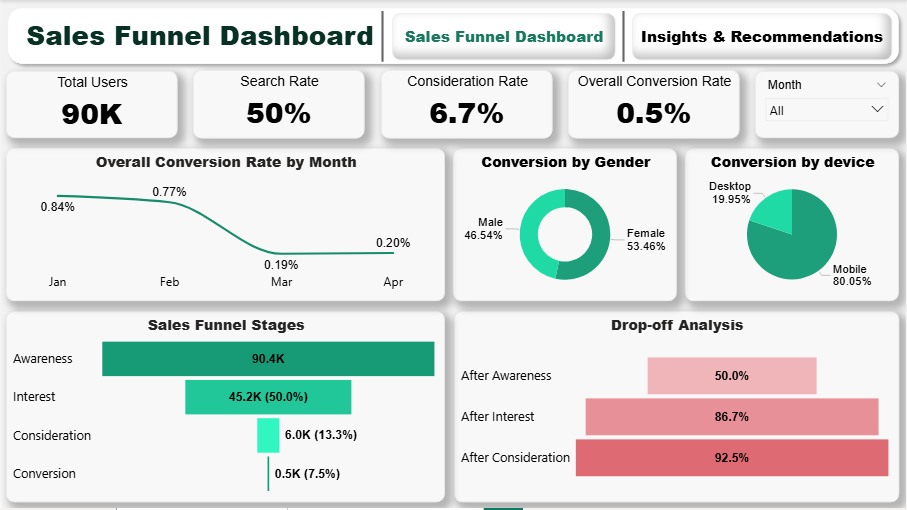

This screenshot's page, from the dashboard's own definition file:
{"tool":"powerbi","page":{"name":"Sales Funnel Dashboard","canvas":[1280,720],"ordinal":0},"visuals":[{"type":"card","title":"Total Users","fields":{"Values":["All Measures.Home Page Users"]},"box":[5.7,101.1,243.5,95.4],"z":0},{"type":"shape","box":[0,2.8,1279.8,96.4],"z":1000},{"type":"textbox","box":[11.3,18.4,538.6,66.6],"z":2000},{"type":"shape","box":[528.7,15.6,21.3,72.3],"z":3000},{"type":"shape","box":[873.1,15.6,15.6,72.3],"z":4000},{"type":"actionButton","box":[552.8,18.4,317.5,66.6],"z":5000},{"type":"actionButton","box":[892.9,18.4,368.5,66.6],"z":6000},{"type":"funnel","title":"Drop-off Analysis","fields":{"Y":["All Measures.Drop-Off After Home Page","All Measures.Drop-off after Search page","All Measures.Drop-off after payment confirmation"]},"box":[640.6,440.8,630.7,270.7],"z":7000},{"type":"funnel","title":"Sales Funnel Stages","fields":{"Y":["All Measures.Home Page Users","All Measures.Search Page Users","All Measures.Payment Page Users","All Measures.Payment Confirmation Users"]},"box":[5.7,441.4,622.2,270.5],"z":8000},{"type":"lineChart","title":"Overall Conversion Rate by Month","fields":{"Category":["Calender.Month"],"Y":["All Measures.Overall Conversion Rate"]},"box":[5.7,210.1,622.2,216.9],"z":9000},{"type":"donutChart","title":"Conversion by Gender","fields":{"Y":["All Measures.Conversion Rate"],"Category":["user_table.sex"]},"box":[639.2,210.1,317.5,216.9],"z":10000},{"type":"pieChart","title":"Conversion by device","fields":{"Y":["All Measures.Conversion Rate"],"Category":["user_table.device"]},"box":[968,209.8,303.3,216.9],"z":11000},{"type":"slicer","fields":{"Values":["Calender.Month"]},"box":[1067.9,101.1,203.6,95.4],"z":12000},{"type":"card","title":"Overall Conversion Rate","fields":{"Values":["All Measures.Conversion Rate"]},"box":[802.3,99.7,243.5,96.8],"z":13000},{"type":"card","title":"Search Rate","fields":{"Values":["All Measures.Search Rate"]},"box":[271.2,99.7,243.5,96.8],"z":14000},{"type":"card","title":"Consideration Rate","fields":{"Values":["All Measures.Consideration Rate"]},"box":[536.8,99.7,243.5,96.8],"z":15000}]}

Visuals, with their boxes in screenshot pixels (x1, y1, x2, y2), scaled from the page's 1280x720 canvas onto the 907x510 screenshot:
"Total Users" card: locate(4, 72, 177, 139)
shape: locate(0, 2, 906, 70)
textbox: locate(8, 13, 390, 60)
shape: locate(375, 11, 390, 62)
shape: locate(619, 11, 630, 62)
actionButton: locate(392, 13, 617, 60)
actionButton: locate(633, 13, 894, 60)
"Drop-off Analysis" funnel: locate(454, 312, 901, 504)
"Sales Funnel Stages" funnel: locate(4, 313, 445, 504)
"Overall Conversion Rate by Month" lineChart: locate(4, 149, 445, 302)
"Conversion by Gender" donutChart: locate(453, 149, 678, 302)
"Conversion by device" pieChart: locate(686, 149, 901, 302)
slicer - Calender.Month: locate(757, 72, 901, 139)
"Overall Conversion Rate" card: locate(569, 71, 741, 139)
"Search Rate" card: locate(192, 71, 365, 139)
"Consideration Rate" card: locate(380, 71, 553, 139)
